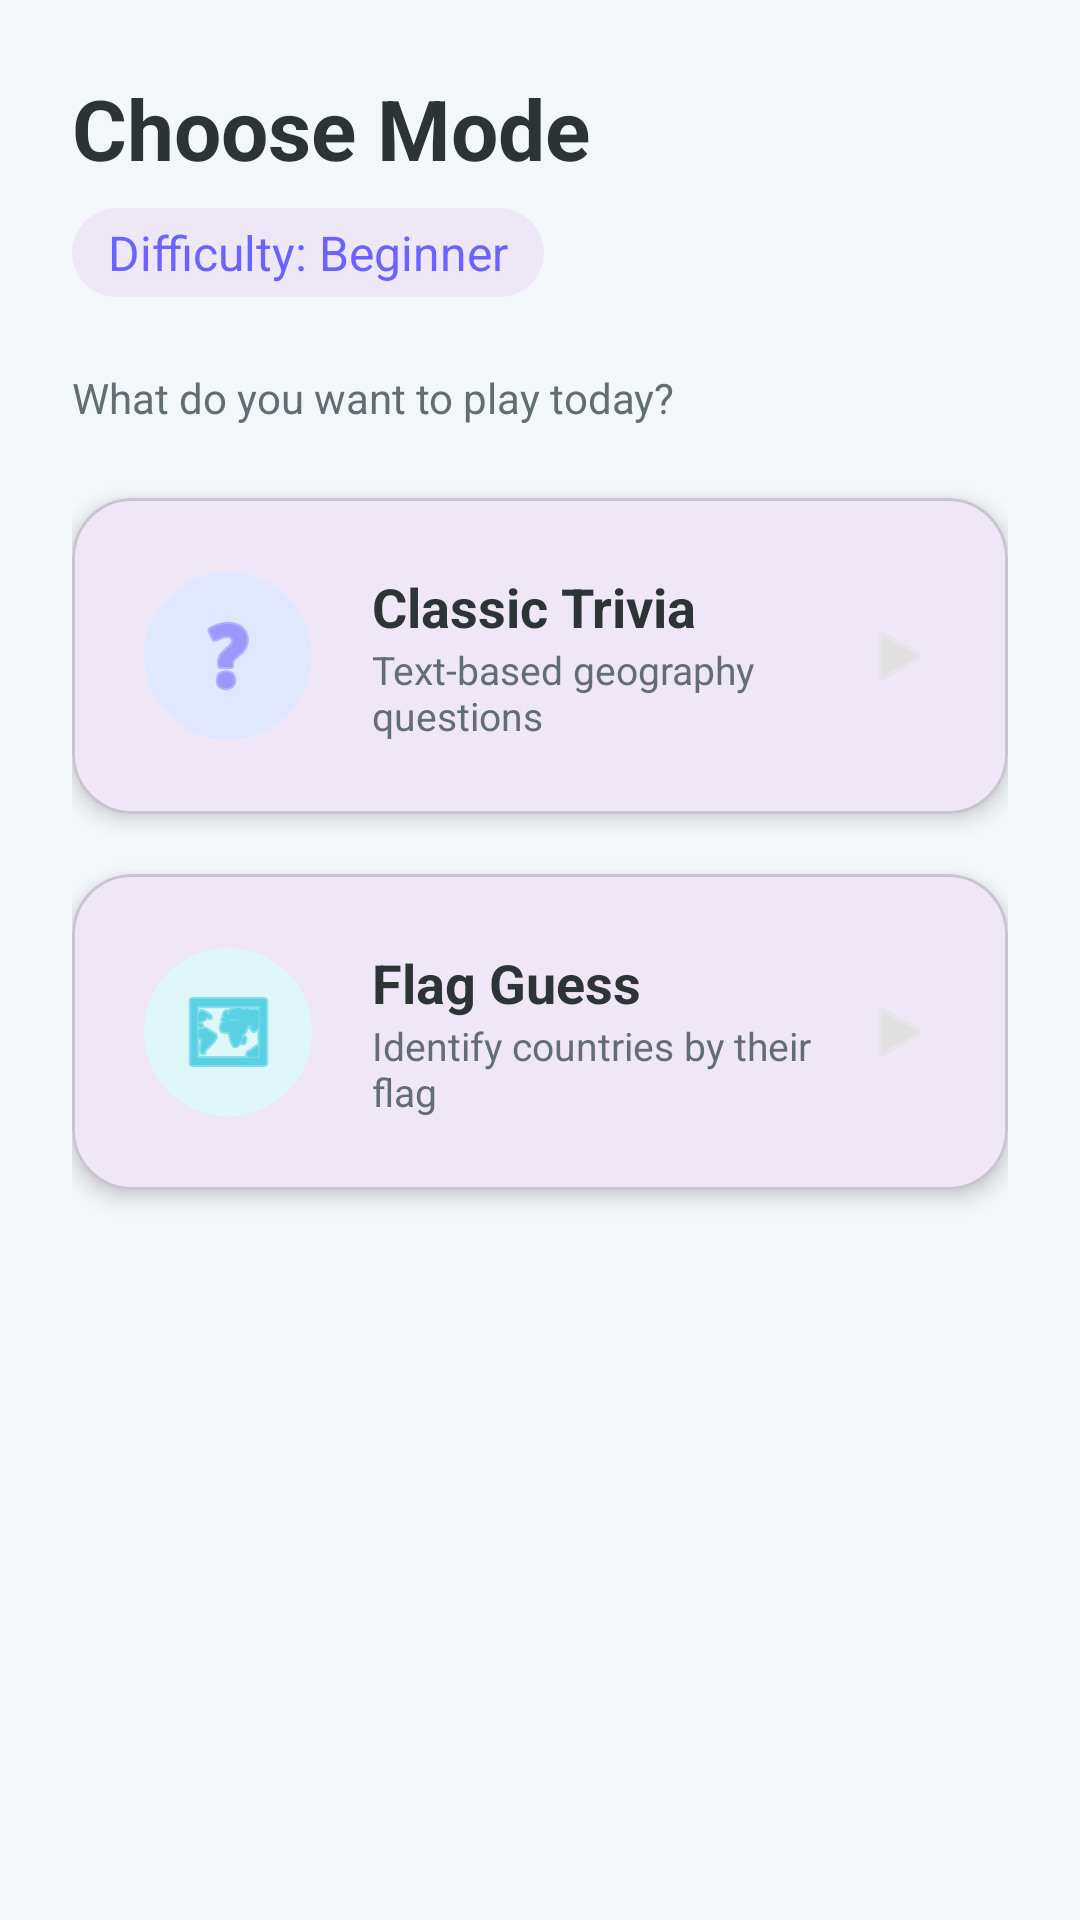

Where icons sit on this 1080x1920 app screen, as bbox(x1, y1, x2, y2):
help: bbox(207, 621, 249, 691)
mapmode: bbox(188, 997, 269, 1067)
